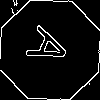A: (25, 25, 81, 74)
